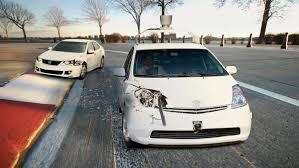Headlight-Damage: (131, 83, 169, 112)
